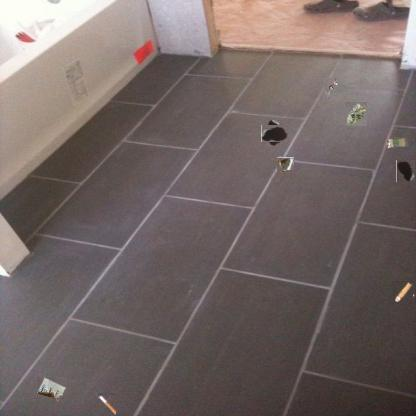dirty: (37, 377, 67, 403), (345, 102, 367, 126), (394, 281, 414, 301), (98, 394, 116, 416), (385, 136, 409, 150), (324, 78, 338, 100), (278, 156, 293, 172)
liquid: (264, 122, 286, 145), (396, 160, 415, 182)
